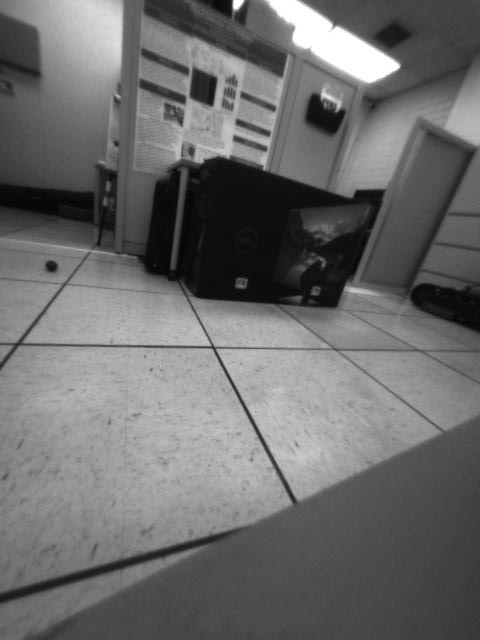dogtoy: (42, 254, 64, 277)
